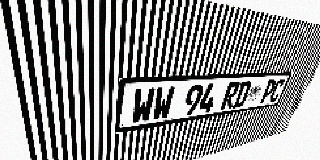4: (197, 83, 219, 114)
9: (182, 84, 205, 116)
C: (268, 79, 286, 103)
D: (232, 81, 252, 108)
P: (259, 79, 277, 104)
R: (220, 82, 241, 110)
W: (131, 87, 156, 125), (151, 86, 175, 121)
